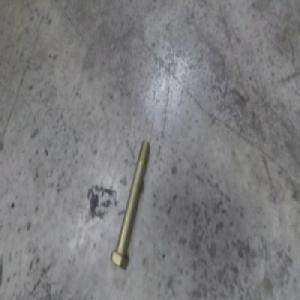Bolt: (114, 145, 150, 263)
